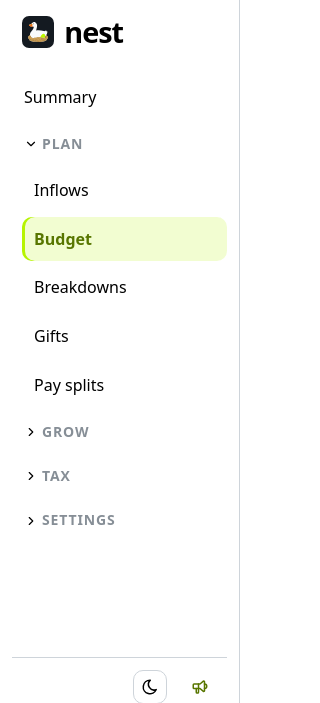
Test: TabBar › opens the group a navigation lands in and closes the one left behind
Click the button "Settings". click: (120, 521)
box: [12,500,227,541]
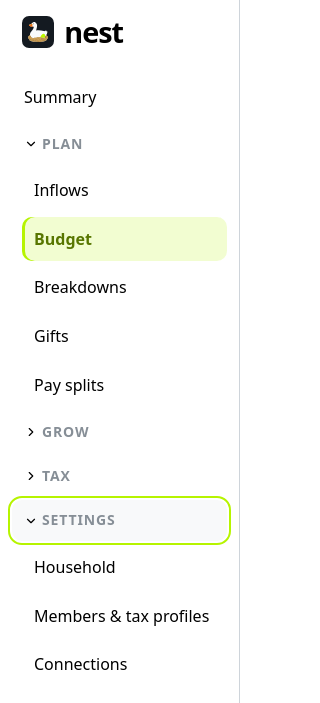
Click the link "Household". click: (75, 567)
box: [34,556,116,578]
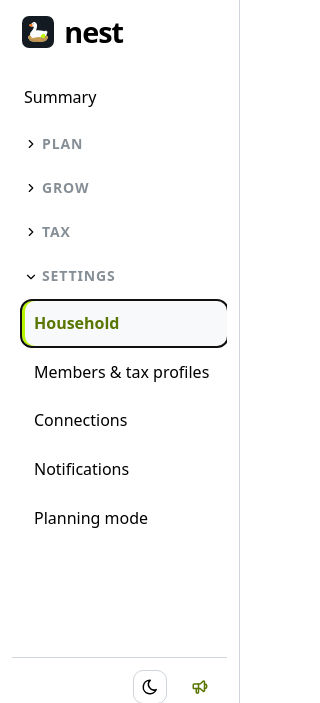
Expected: the text with test id "pathname" reads "/settings/account", [0,1,131,23]
Expected: the button "Settings" is expanded, [12,256,227,297]
Expected: the button "Plan" is collapsed, [12,124,227,164]
